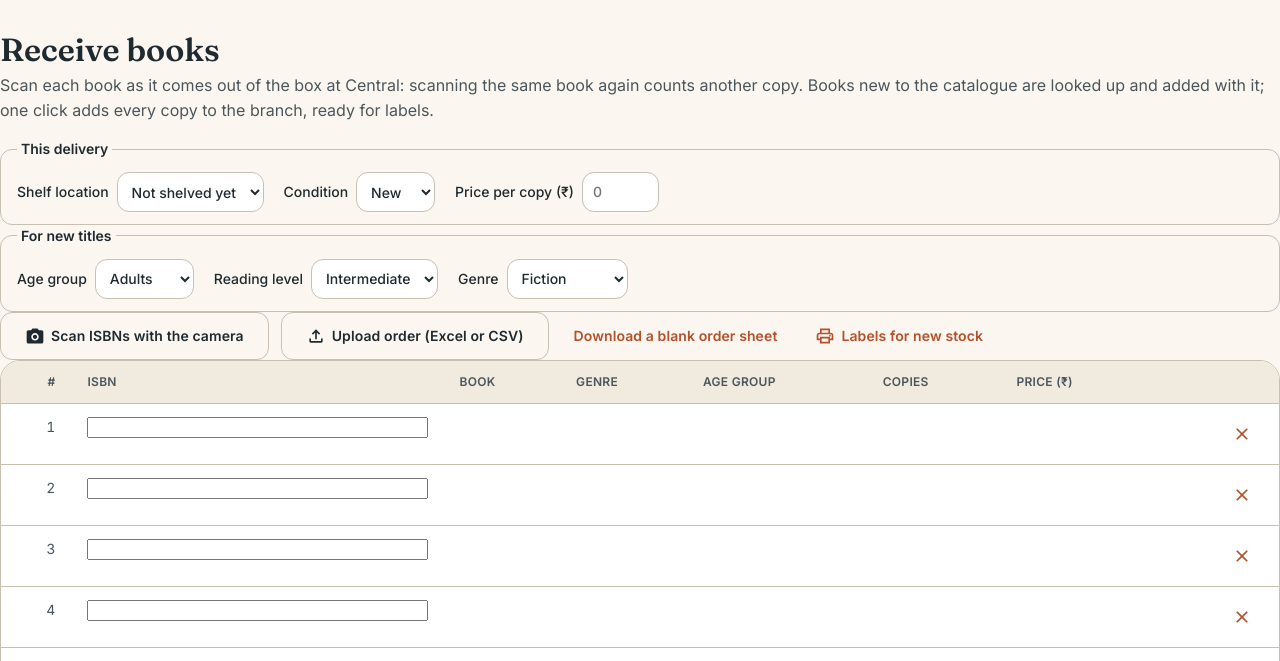
Test: Receive books: the camera › asks to hold up the ISBN barcode, and says why when the camera cannot be used
Step 1. Click the button "Scan ISBNs with the camera" → (134, 336), box [0,312,269,360]
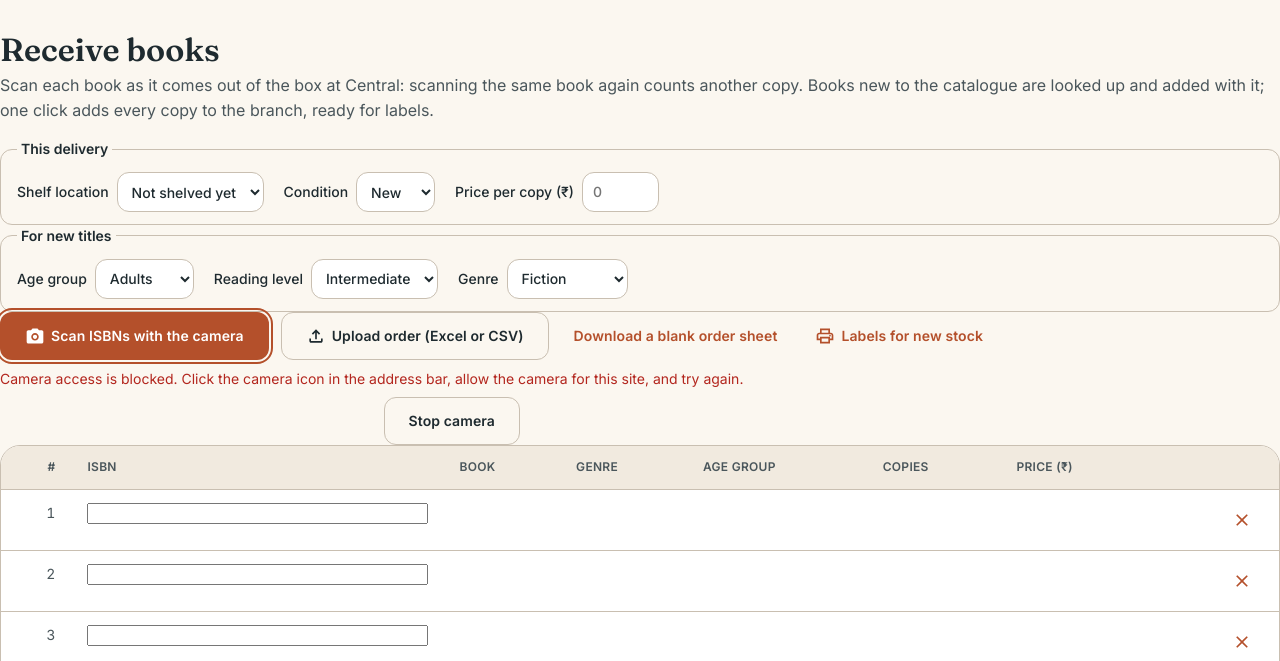
Expected: the button "Scan ISBNs with the camera" is pressed
Step 2. Click the button "Scan ISBNs with the camera" → (134, 336), box [0,312,269,360]
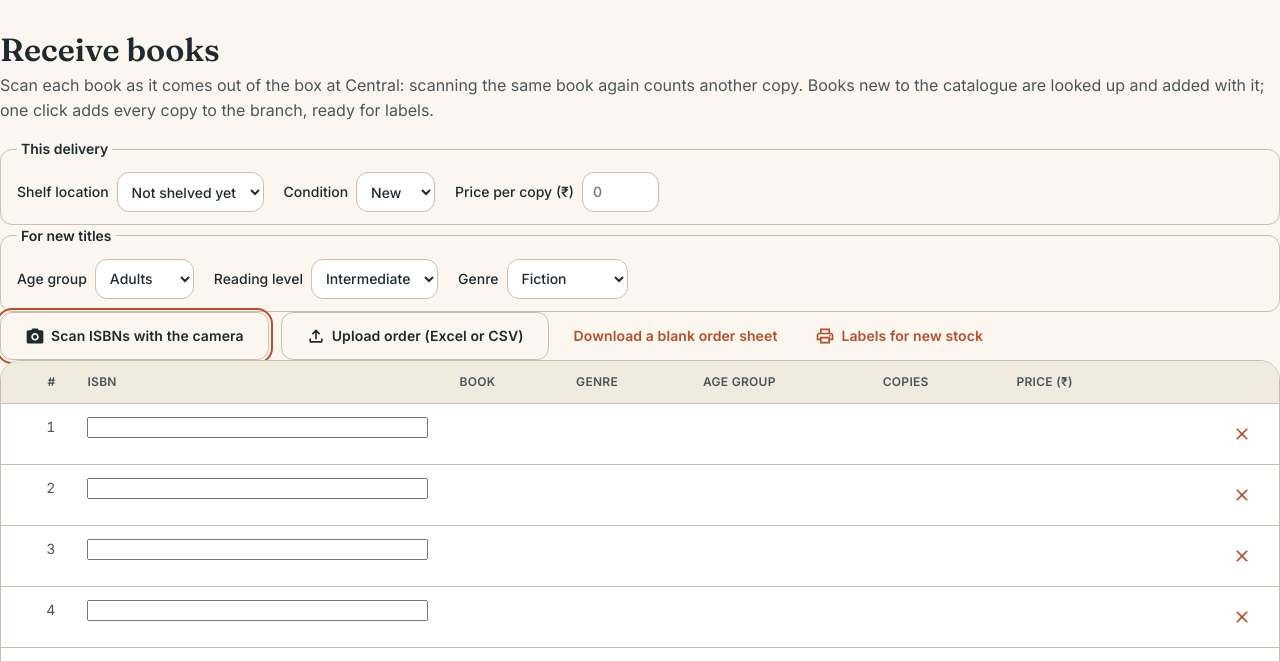
Expected: the text "Camera access is blocked" is gone
